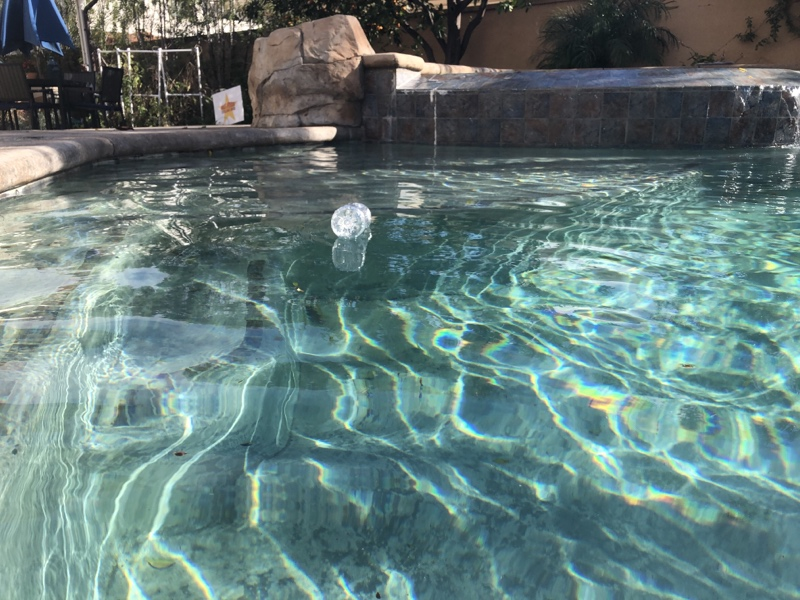Plastic Bottle: (328, 202, 374, 242)
